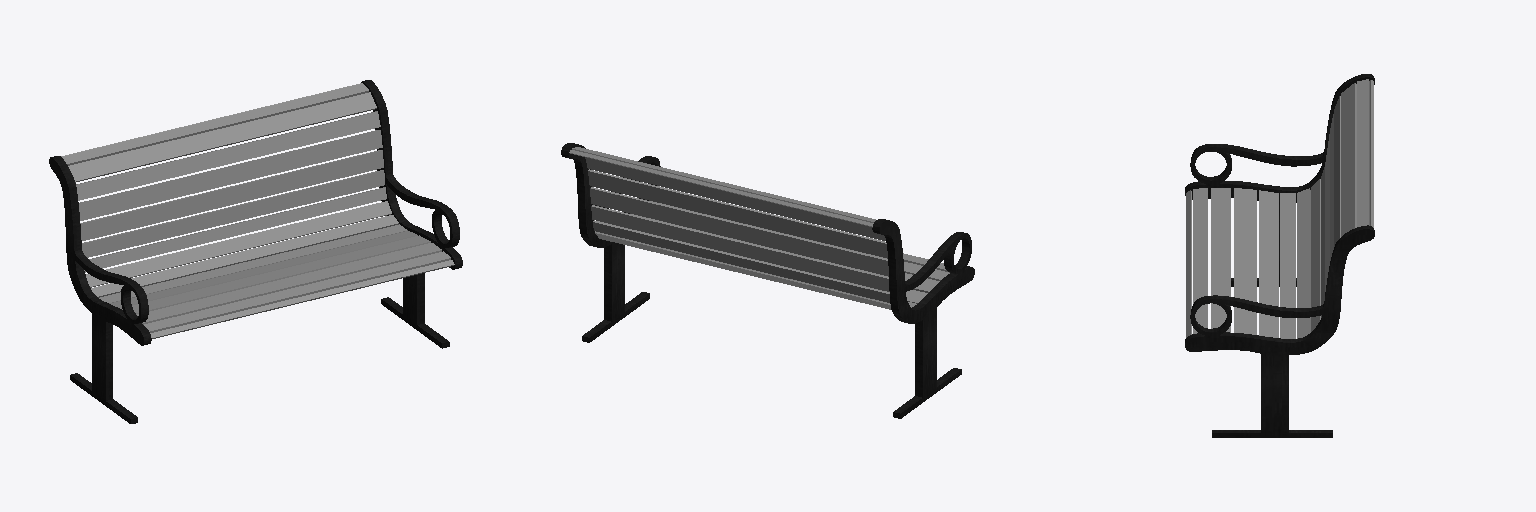
3 renders of one model, left to right at view 1: azimuth 30°, elevation 25°; view 2: azimuth 150°, elevation 25°; view 3: azimuth 270°, elevation 25°, orthographic.
Parts seen in each view (by area): view 1: Shape001, Line002, Line001; view 2: Shape001, Line002, Line001; view 3: Shape001, Line001, Line002.
Part boxes in pixels (bbox=[...]): Shape001: bbox=[61, 83, 454, 338]; Line002: bbox=[49, 156, 151, 423]; Line001: bbox=[361, 80, 462, 348]; Shape001: bbox=[569, 147, 949, 309]; Line002: bbox=[872, 219, 974, 418]; Line001: bbox=[561, 143, 660, 342]; Shape001: bbox=[1186, 79, 1373, 338]; Line001: bbox=[1185, 225, 1374, 437]; Line002: bbox=[1185, 74, 1374, 286].
Size of the model in its own units: 44.93 by 28.21 by 23.17.
Materials: 2 (1 with a texture image).